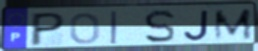I: (110, 10, 119, 45)
J: (183, 9, 211, 42)
M: (213, 7, 255, 42)
O: (68, 11, 101, 45)
P: (28, 11, 68, 47)
S: (142, 8, 176, 44)
